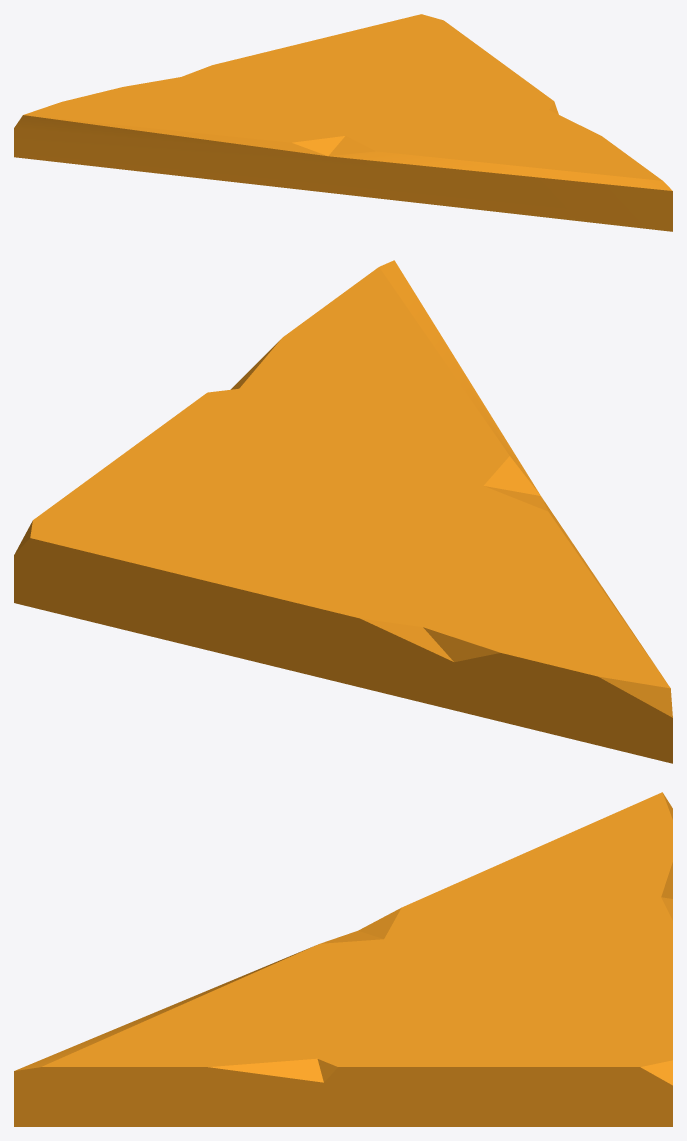
The model's file is SM_Buildings_FloorAngle_1x1_01P.fbx.
The picture shows the model from 3 angles, top to bottom: view 1: azimuth 30°, elevation 25°; view 2: azimuth 150°, elevation 25°; view 3: azimuth 270°, elevation 25°; orthographic projection. The views are drawn at different scales.
Parts seen in each view (by area): view 1: SM_Buildings_FloorAngle_1x1_01P; view 2: SM_Buildings_FloorAngle_1x1_01P; view 3: SM_Buildings_FloorAngle_1x1_01P.
Part boxes in pixels (x1,y1,x2,y2): SM_Buildings_FloorAngle_1x1_01P: (14,14,672,231); SM_Buildings_FloorAngle_1x1_01P: (14,260,672,763); SM_Buildings_FloorAngle_1x1_01P: (14,792,672,1126).
Bounding box in the file's own units: 100 × 10 × 100.
